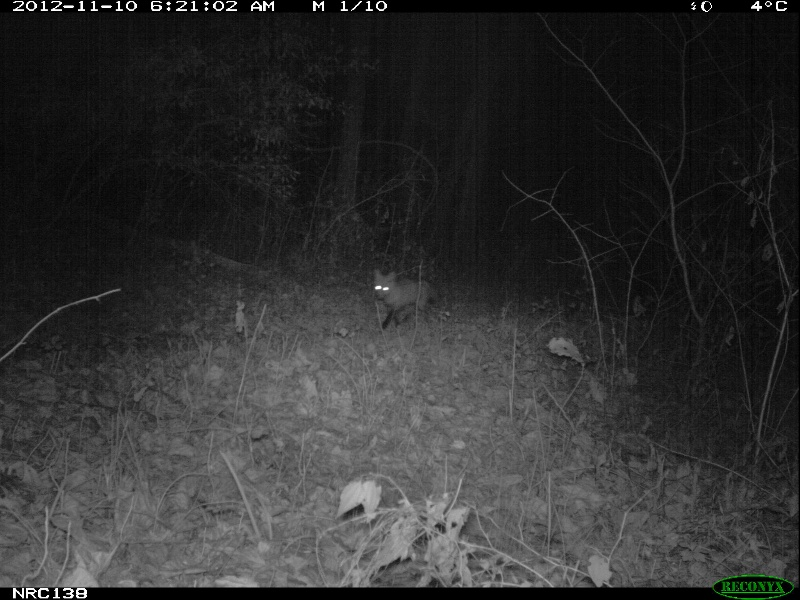fox: (371, 270, 443, 330)
